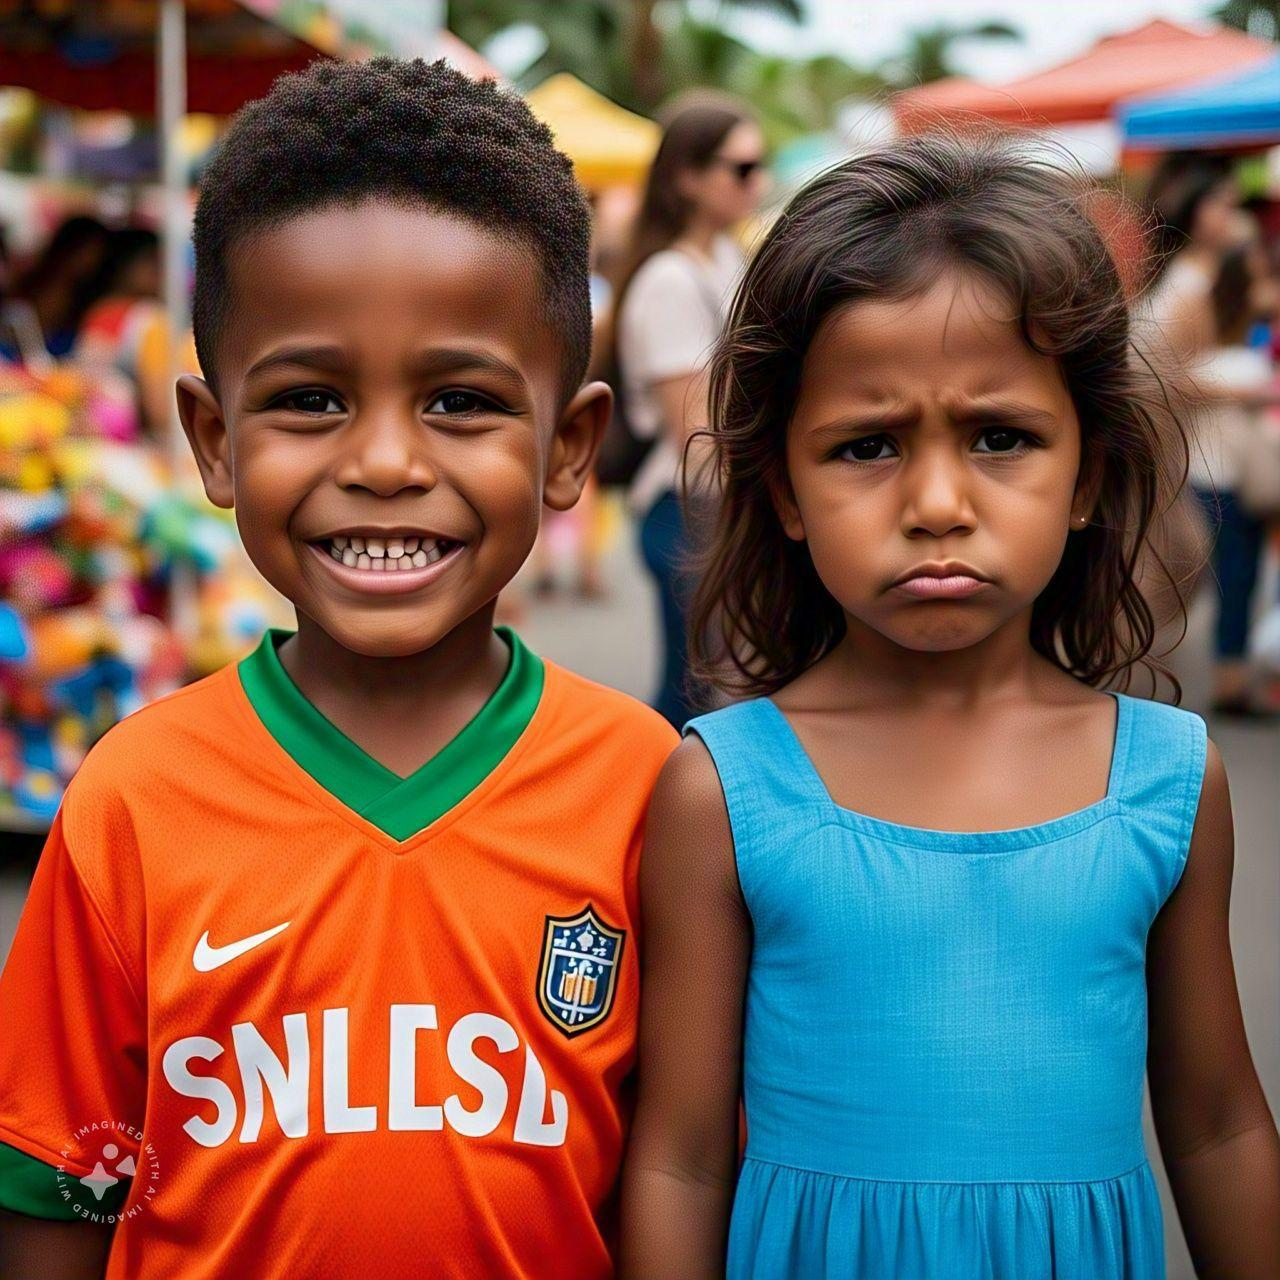feliz: (181, 46, 600, 646)
triste: (784, 215, 1088, 662)
